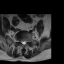CCS_stenosis: (22, 39, 24, 46)
LFS_stenosis: (26, 38, 28, 43)
LLS_normal: (24, 39, 26, 45)
RFS_severe_stenosis: (19, 38, 21, 44)
RLS_normal: (21, 39, 22, 45)
